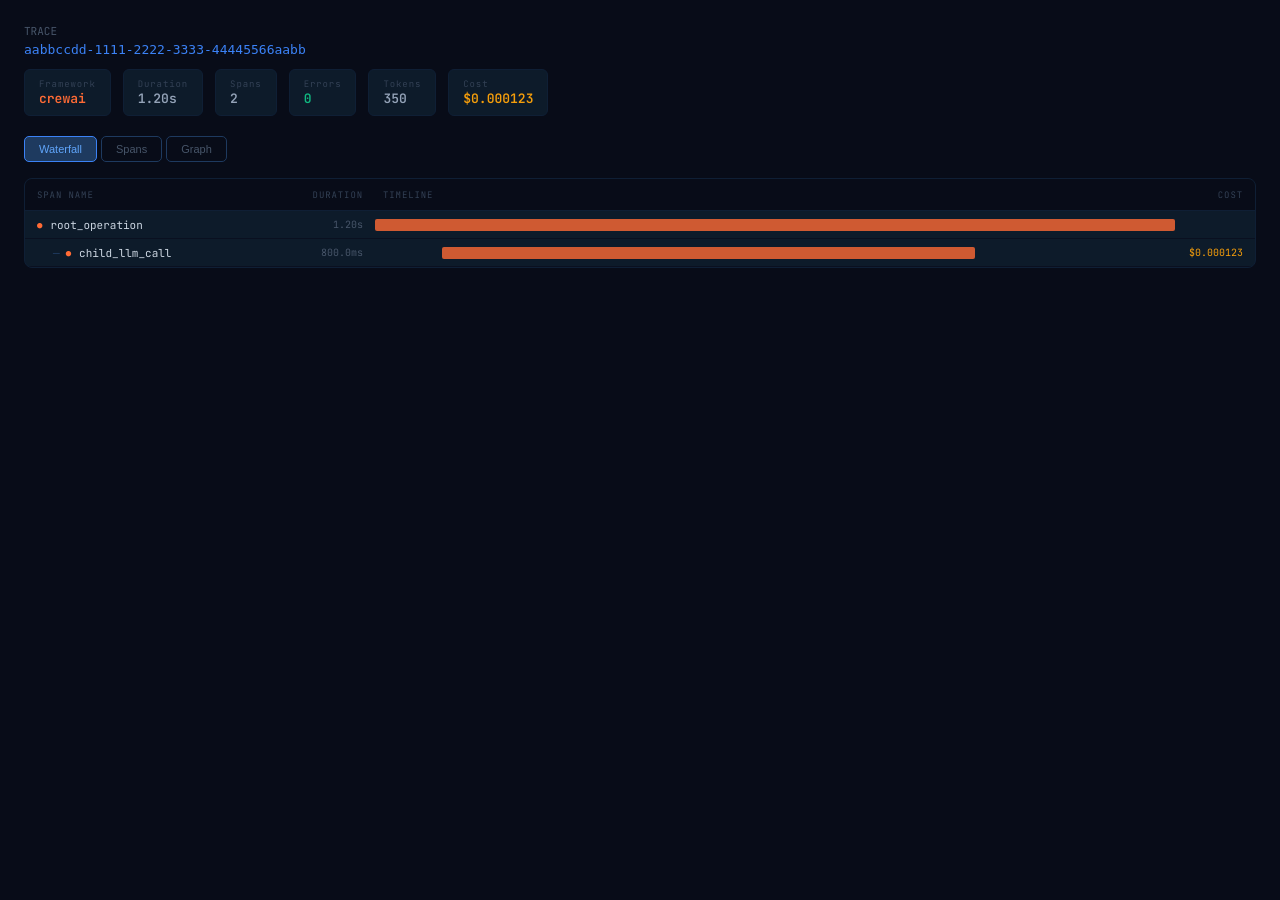
it: TraceDetail › clicking a span in the waterfall selects it and shows detail panel
This screenshot has width=1280, height=900.
// The clickable div wraps the WaterfallRow — go up to the div with onClick
Click the text "root_operation": (90, 224) [37,218,143,232]
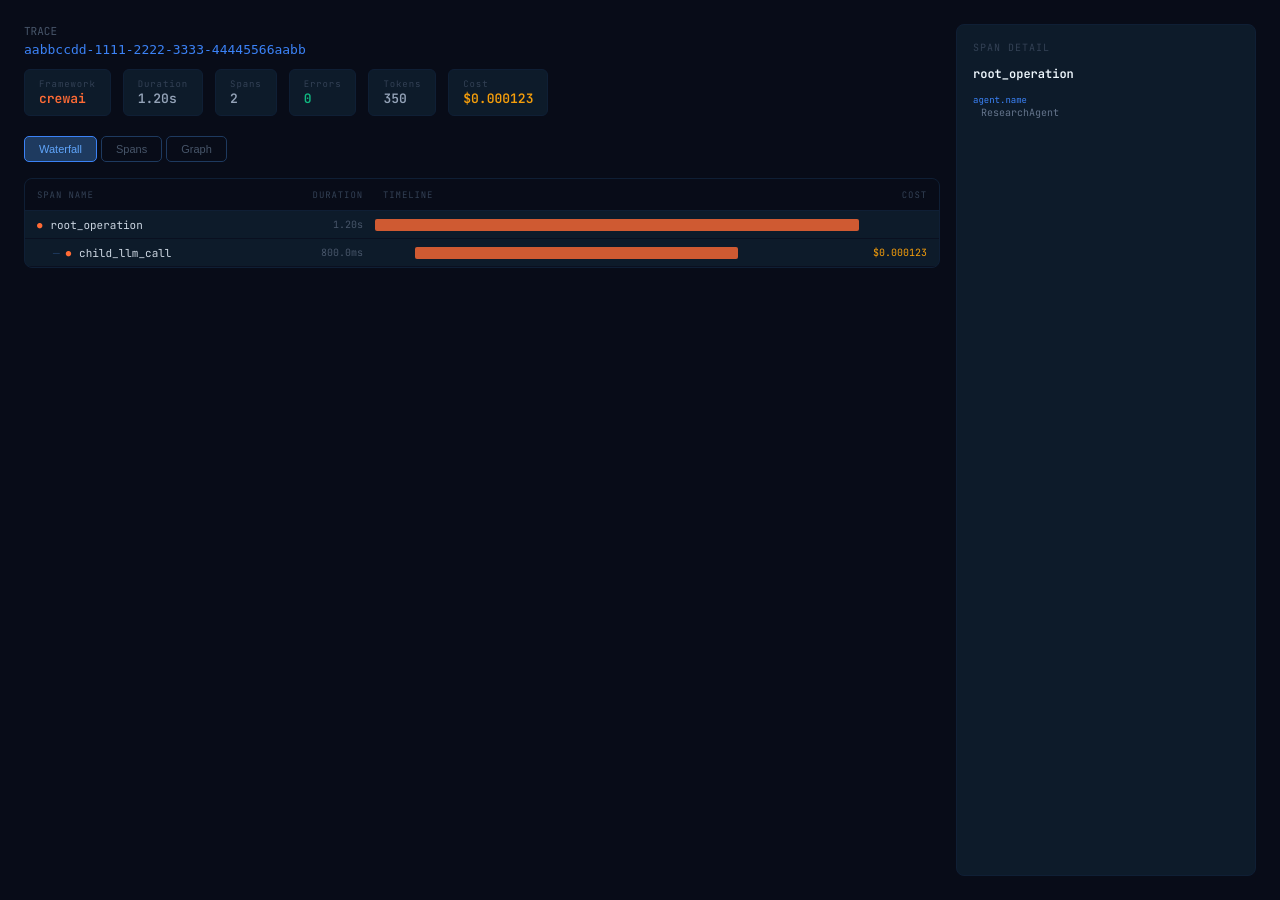
Result: the text "SPAN DETAIL" is shown at [973,41,1050,54]
